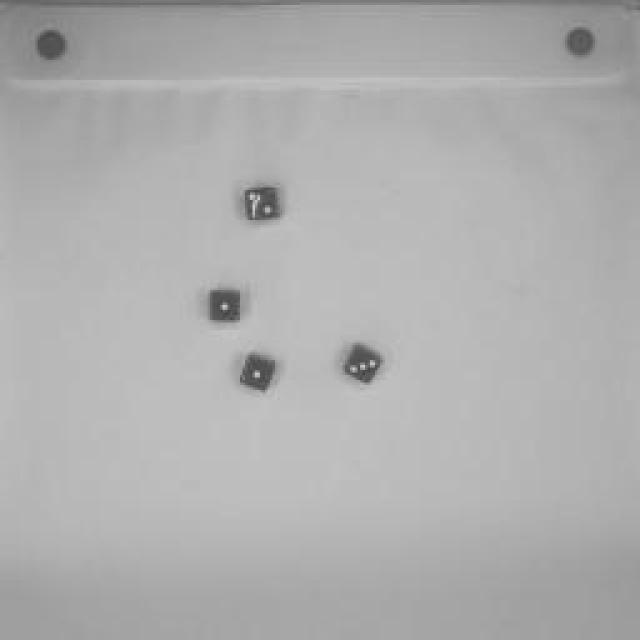dice_1: (234, 349, 284, 396), (205, 288, 250, 330)
dice_2: (242, 186, 286, 224)
dice_3: (334, 332, 391, 392)
